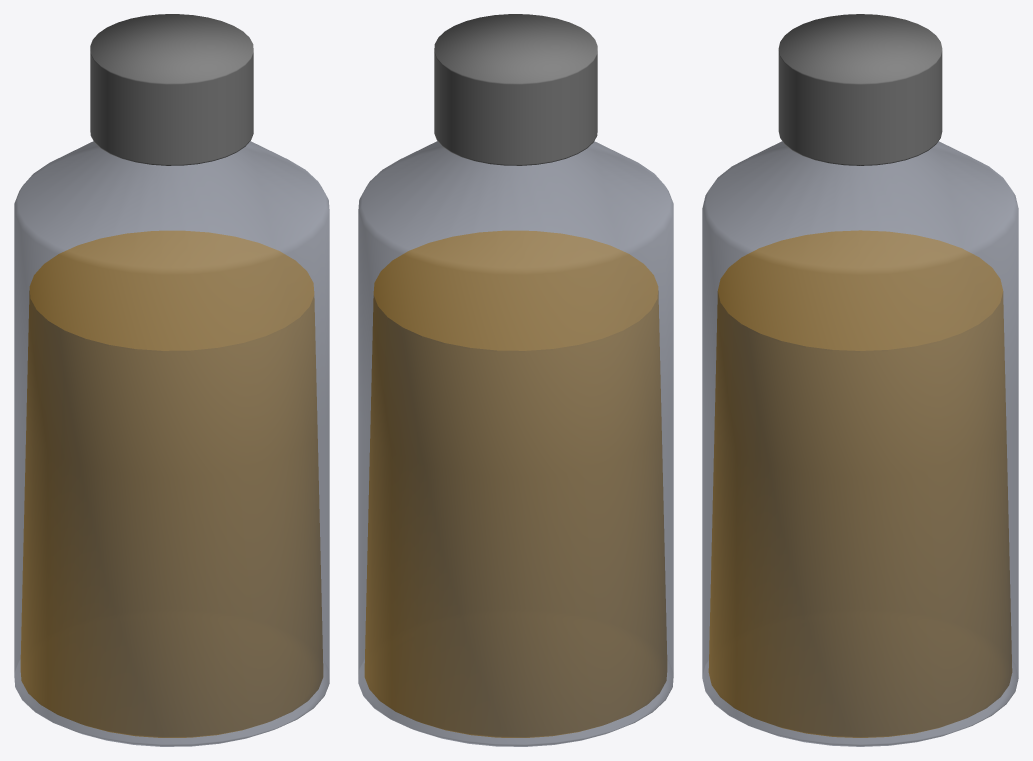
The model's file is com_bath.obj.
The picture shows the model from 3 angles, left to right: view 1: azimuth 30°, elevation 25°; view 2: azimuth 150°, elevation 25°; view 3: azimuth 270°, elevation 25°; orthographic projection.
Visible parts, largest first — view 1: botella_jabon_liq_Cylinder_1_1, 2_2, 3_3; view 2: botella_jabon_liq_Cylinder_1_1, 2_2, 3_3; view 3: botella_jabon_liq_Cylinder_1_1, 2_2, 3_3.
Boxes of the visible parts, <box> form: botella_jabon_liq_Cylinder_1_1: <box>14,141,329,746</box>; 2_2: <box>21,231,322,737</box>; 3_3: <box>90,14,253,165</box>; botella_jabon_liq_Cylinder_1_1: <box>358,141,673,746</box>; 2_2: <box>365,231,666,737</box>; 3_3: <box>434,14,597,165</box>; botella_jabon_liq_Cylinder_1_1: <box>702,141,1018,746</box>; 2_2: <box>709,230,1011,737</box>; 3_3: <box>778,14,942,165</box>.
Size of the model in its own units: 9.62 by 21.37 by 9.62.
